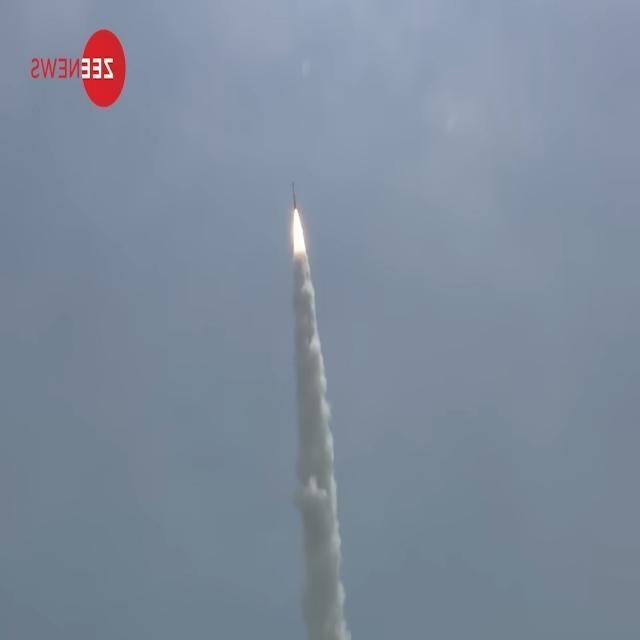missile: (284, 180, 299, 218)
